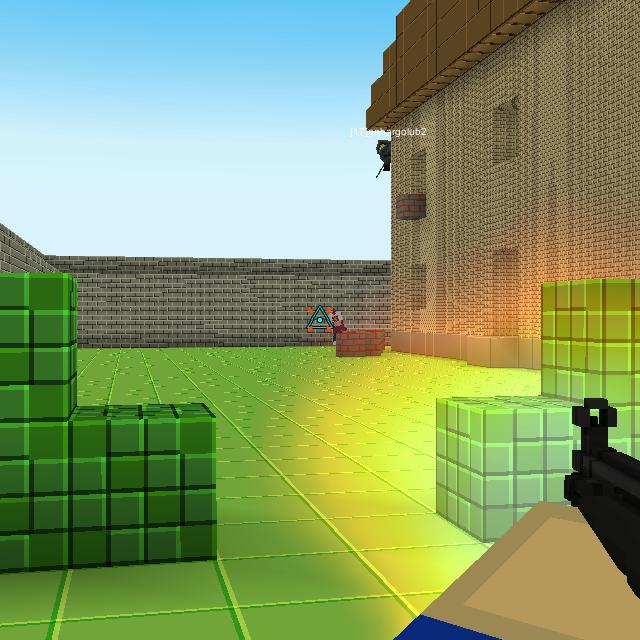enemy: (326, 307, 348, 346)
